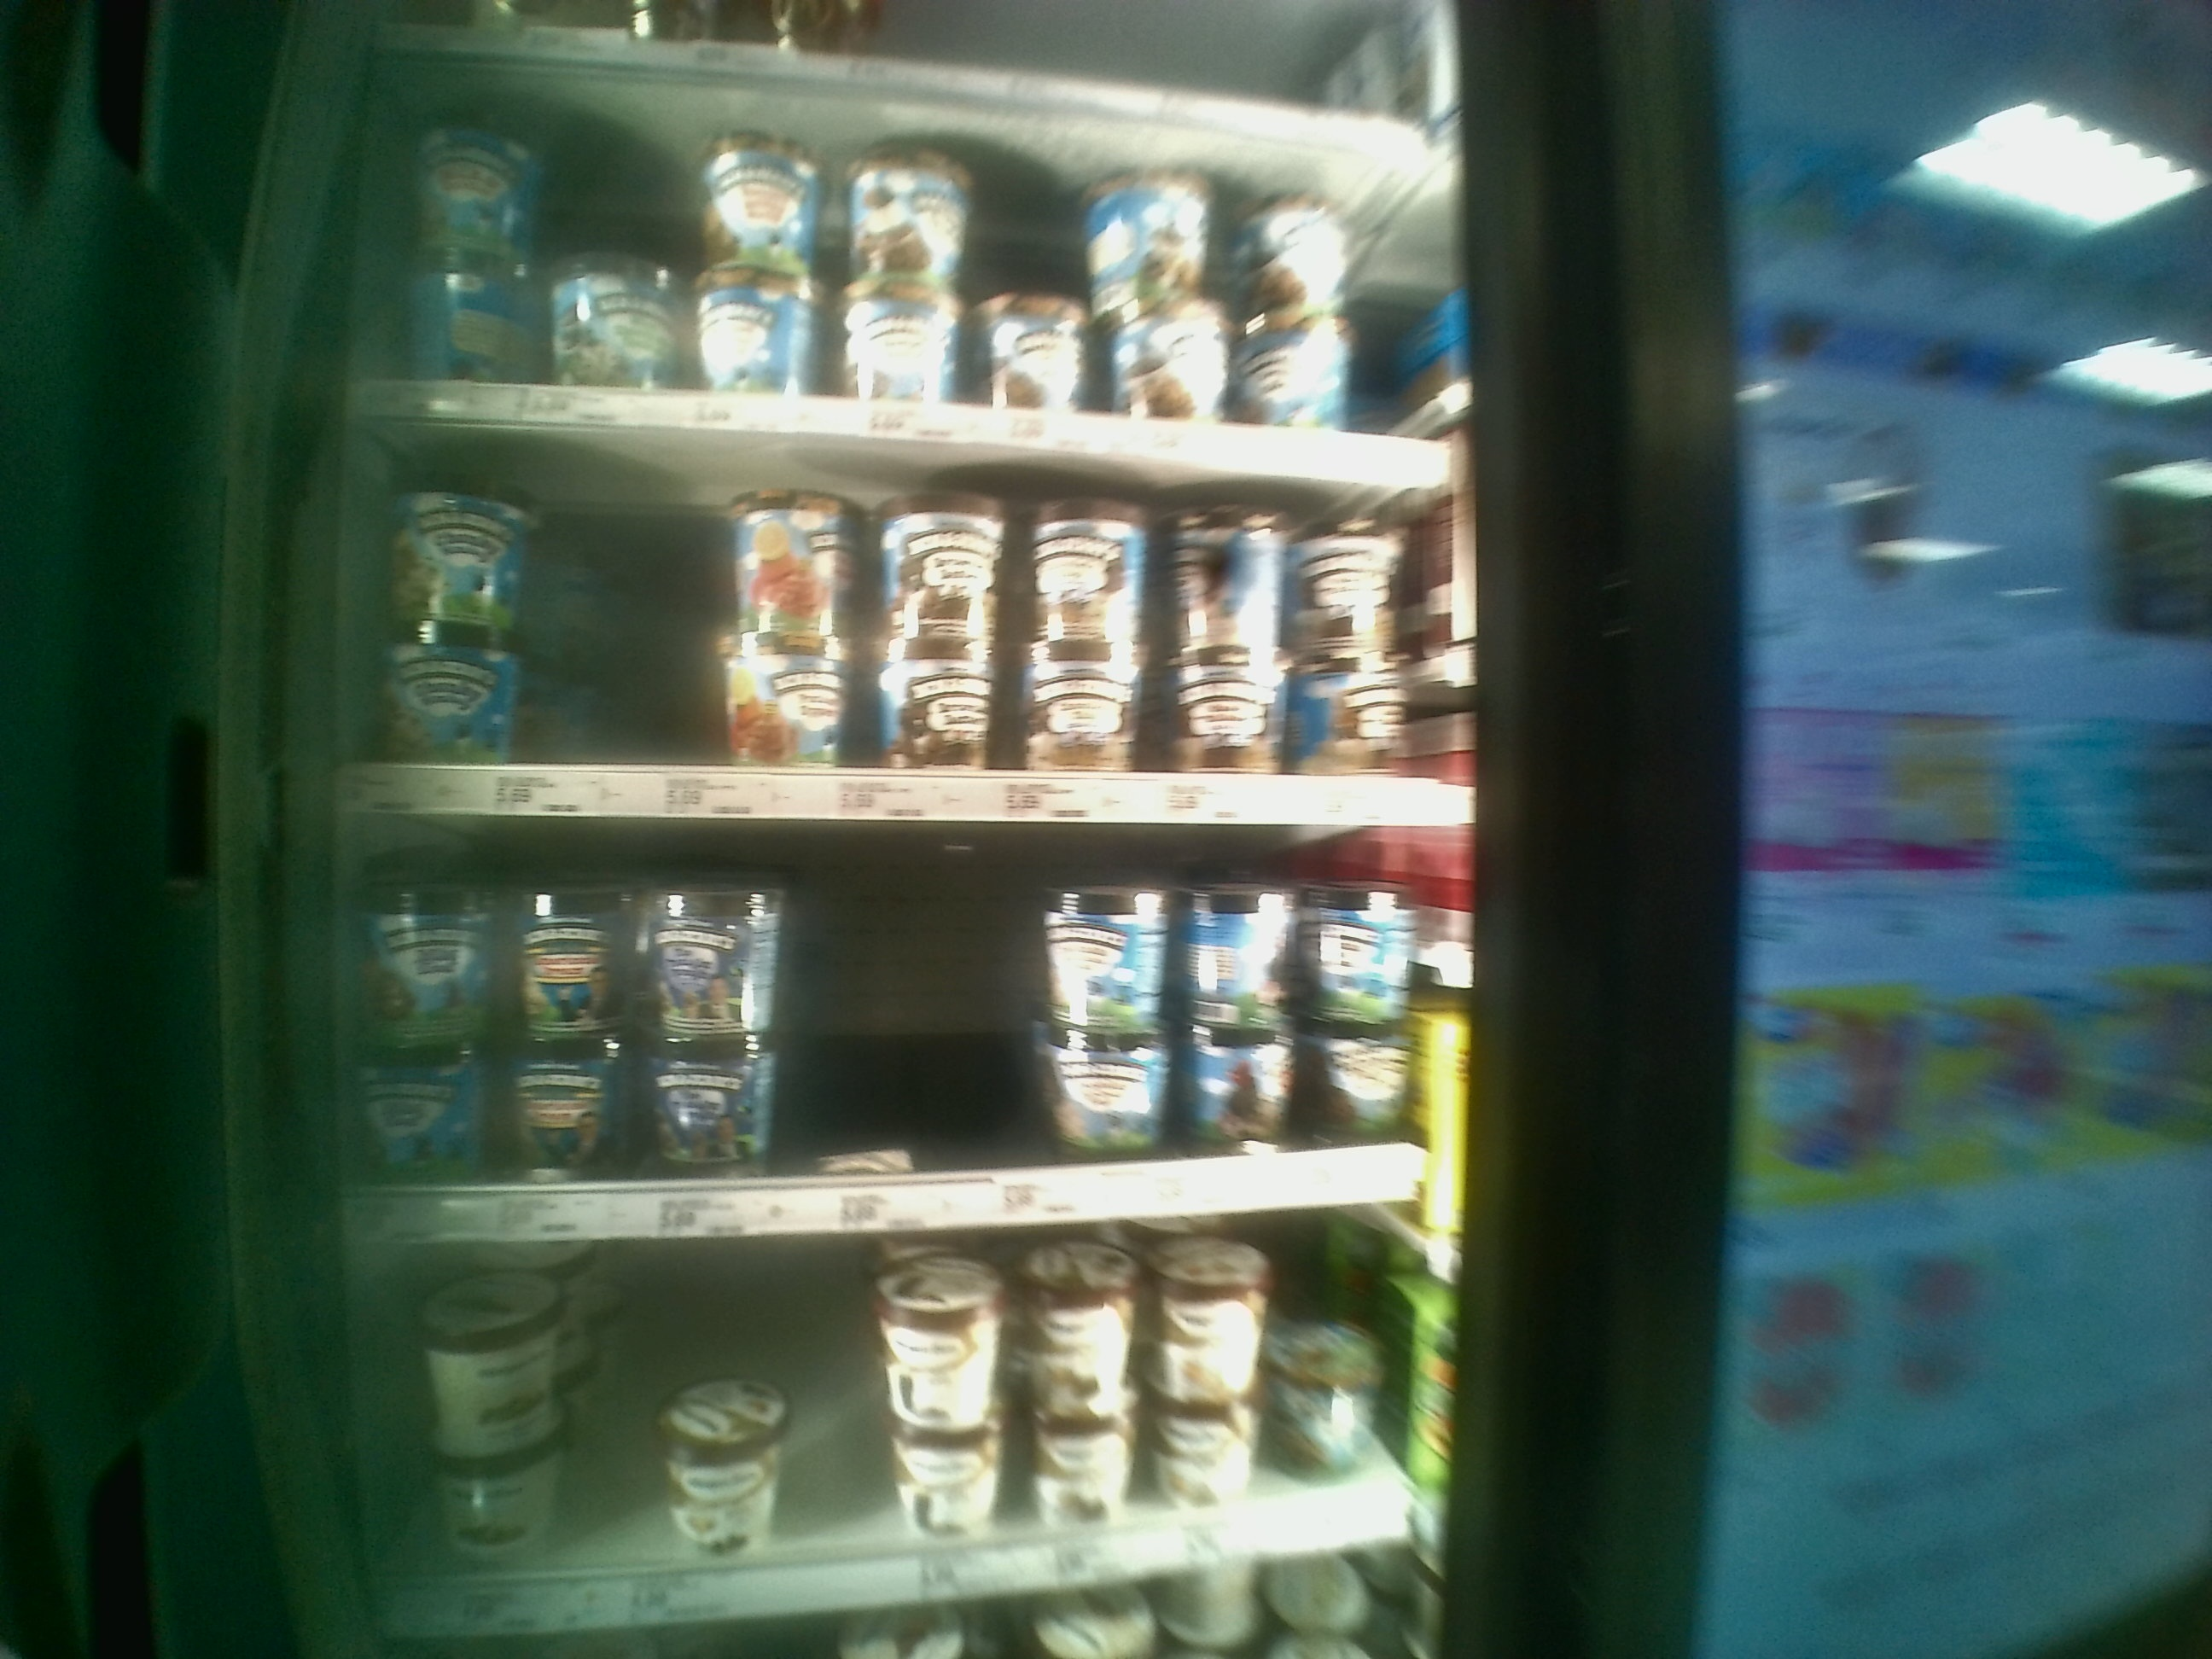shelf: (355, 812, 1468, 1248), (366, 45, 1463, 481), (364, 430, 1447, 823)
